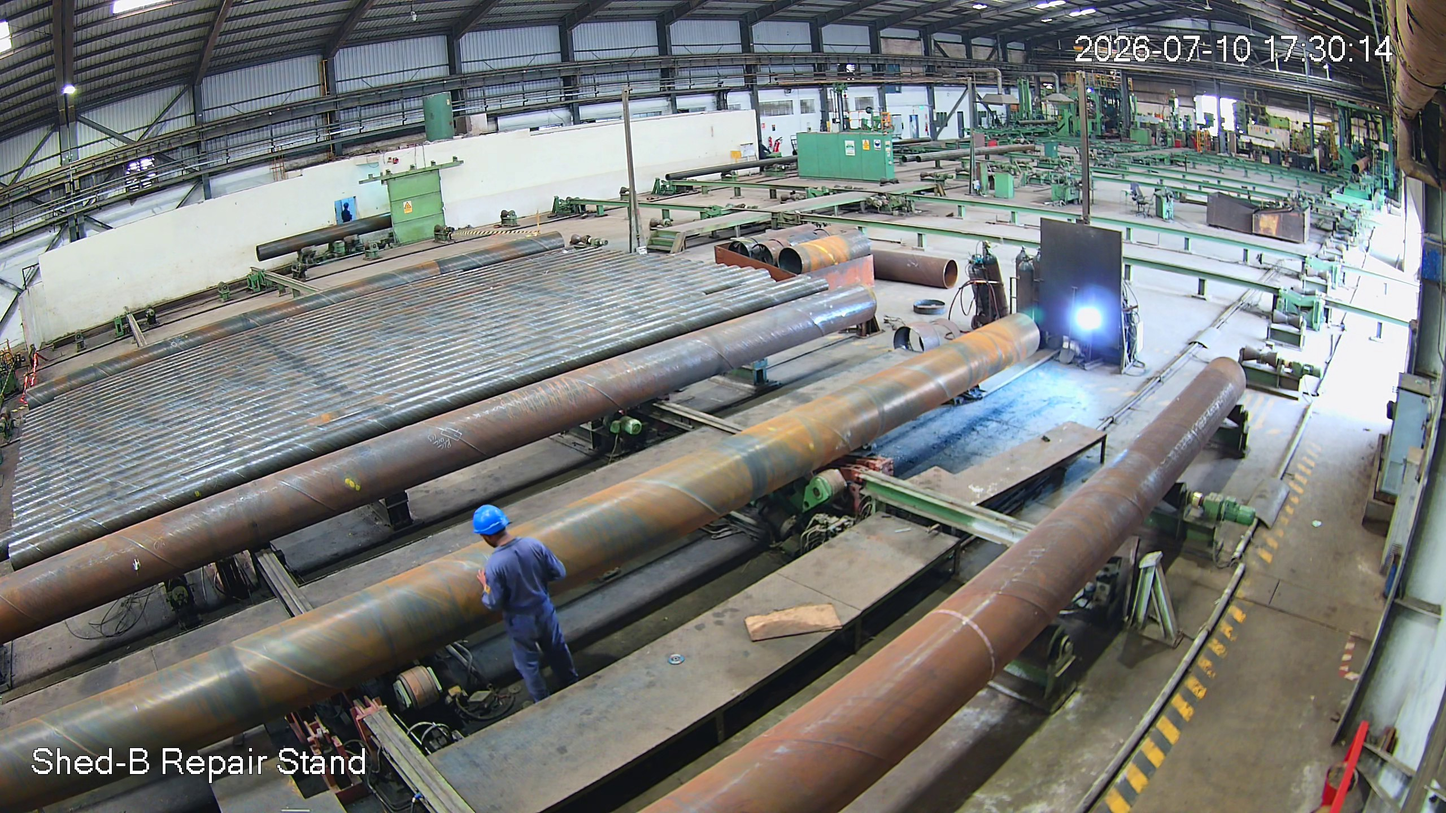Helmet: (468, 496, 532, 560)
Person: (463, 501, 583, 704)
